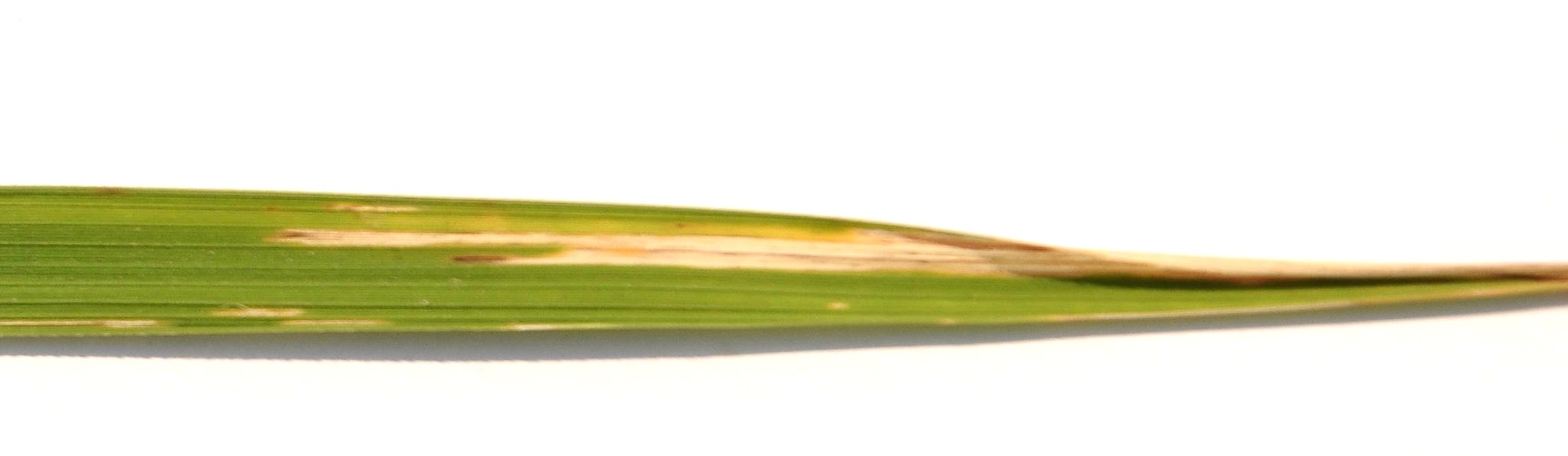Leaf_Blast: (254, 186, 1374, 294)
